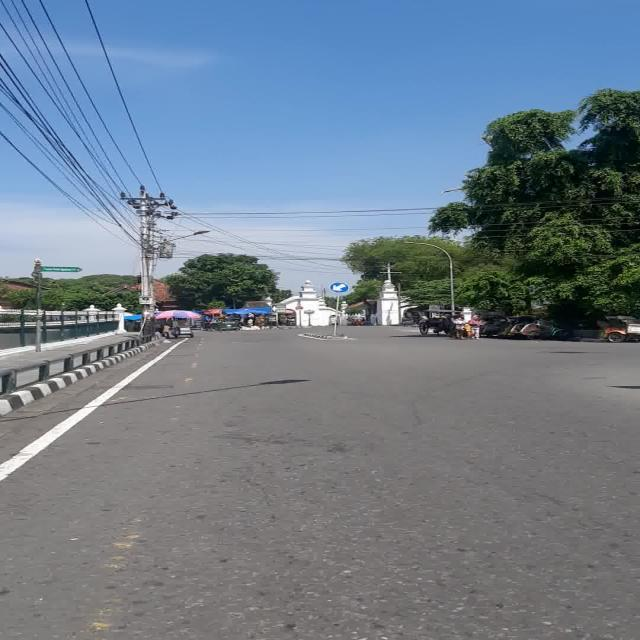Lajur Kiri: (328, 282, 349, 294)
